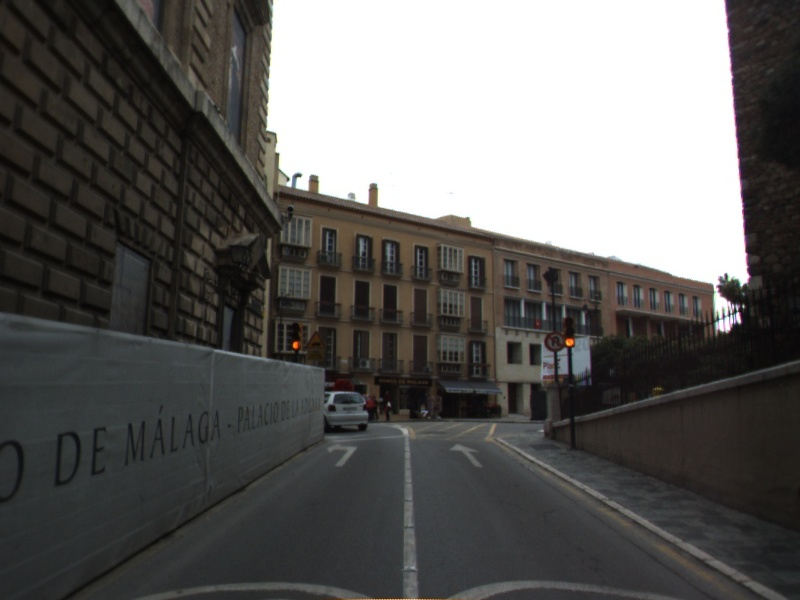LEFT: (325, 442, 359, 468)
STRAIGHT: (447, 441, 485, 469)
